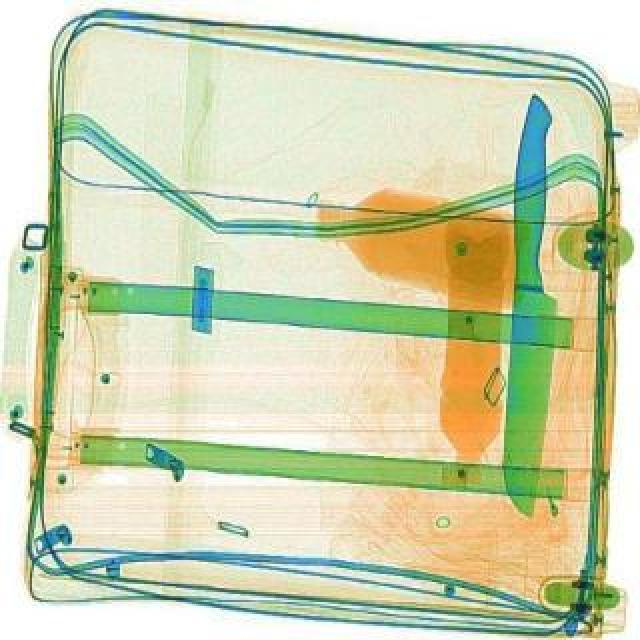knife: (490, 88, 572, 516)
